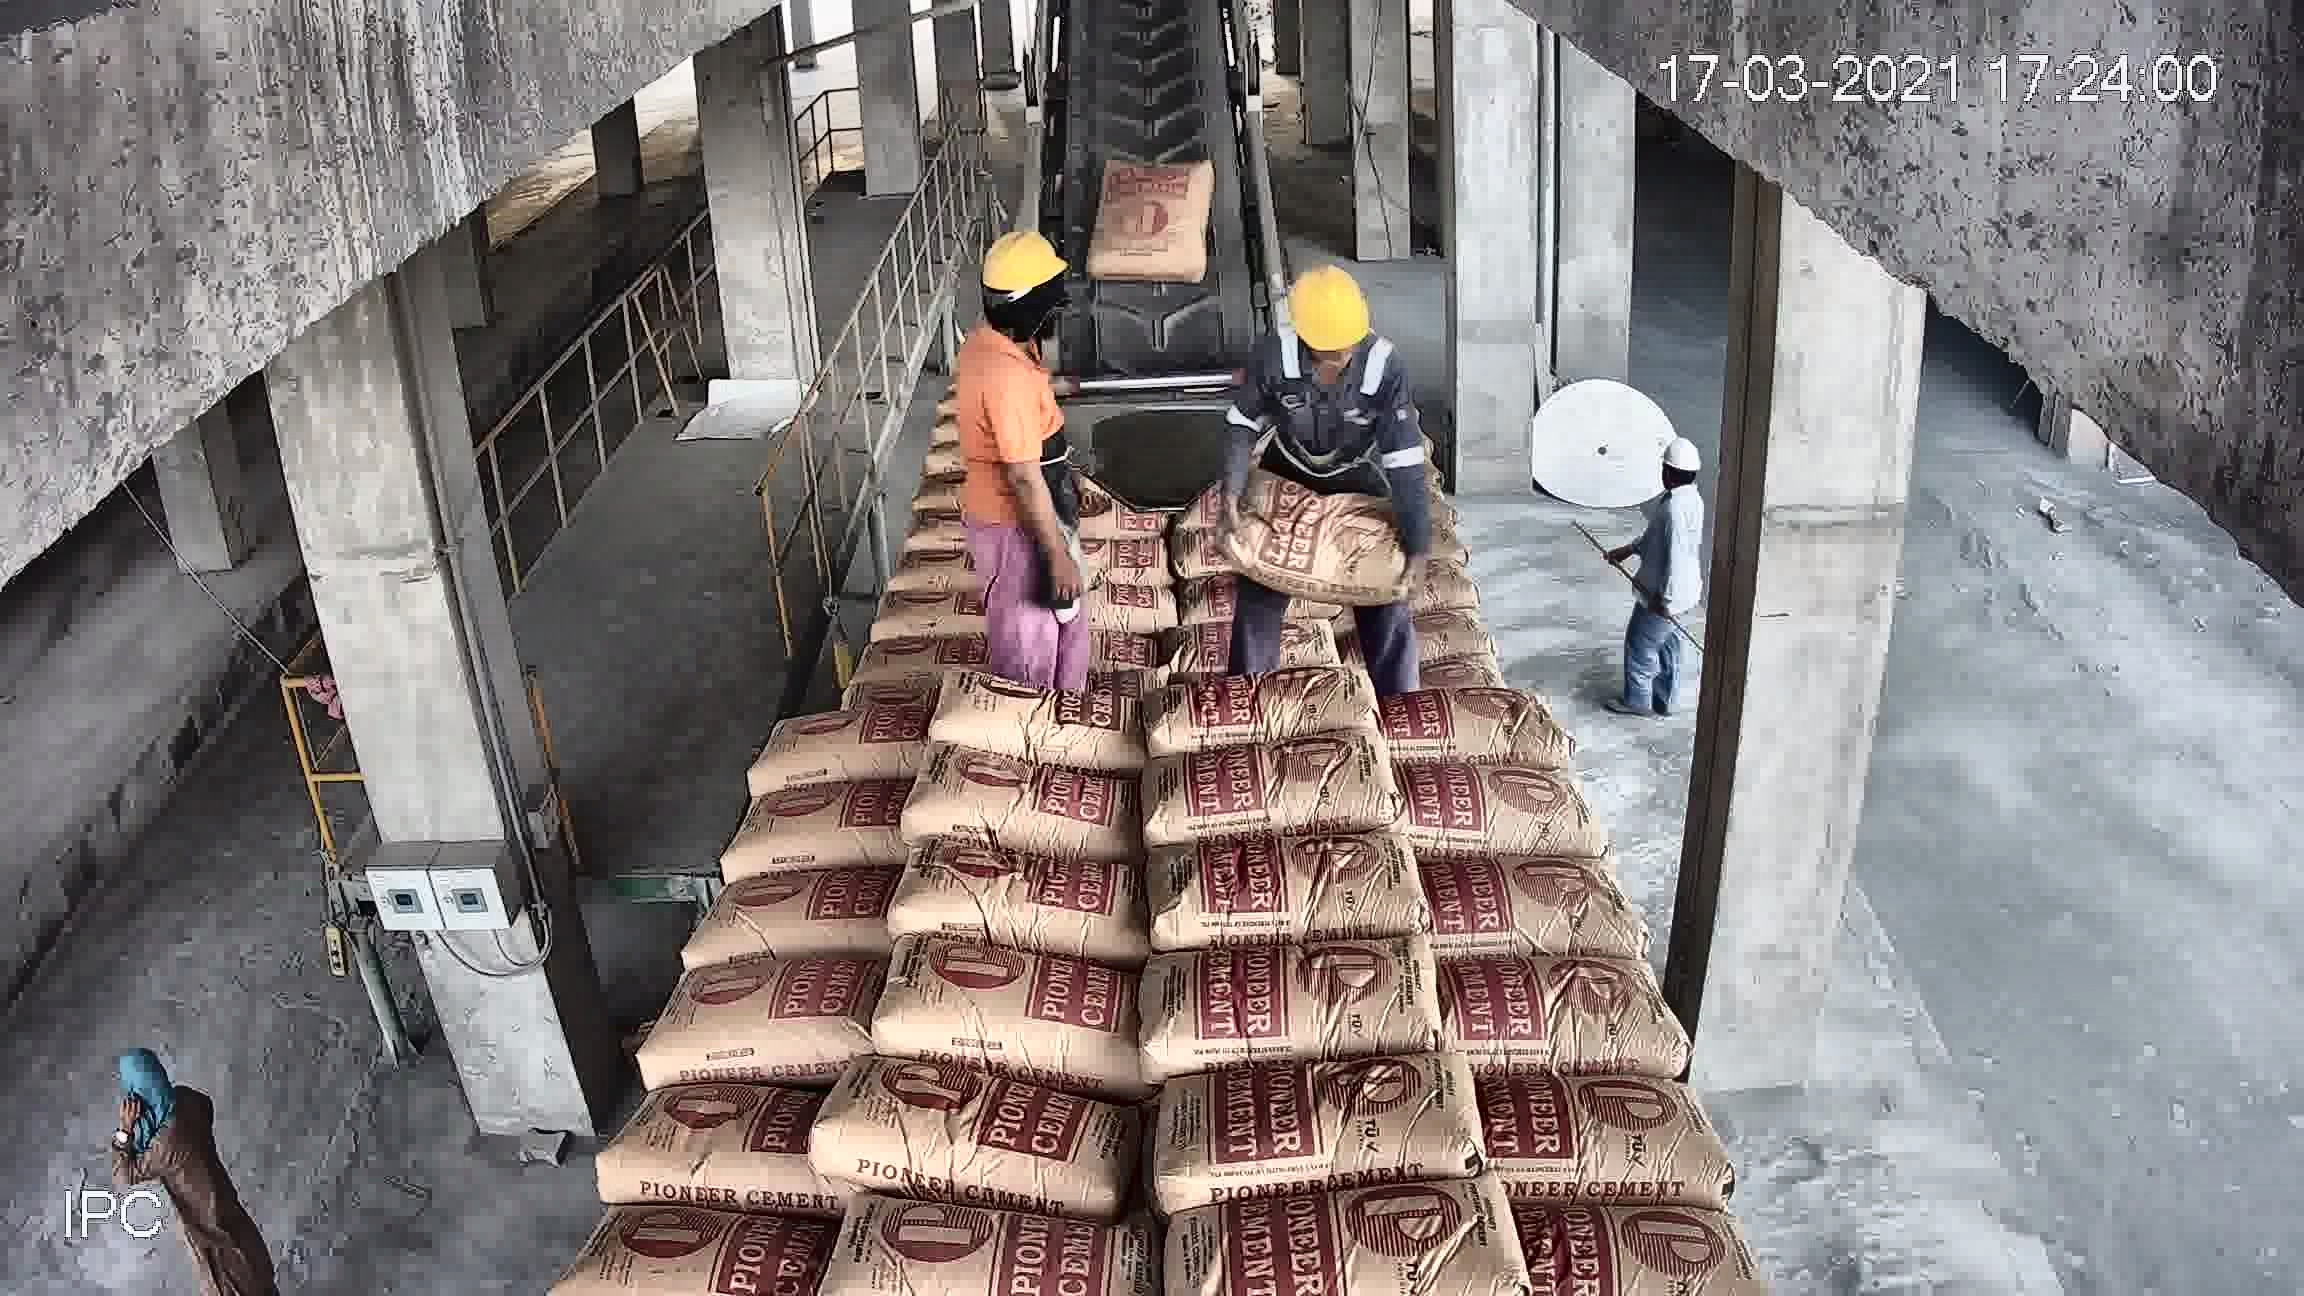bag: (1101, 258, 1188, 377), (1086, 11, 1188, 65)
bag_h: (805, 1041, 1127, 1204), (1124, 1054, 1492, 1192), (837, 946, 1174, 1086), (1418, 923, 1677, 1093), (1453, 1067, 1728, 1211), (866, 832, 1193, 949), (619, 953, 885, 1092), (1184, 1185, 1537, 1283), (1143, 937, 1445, 1048), (1114, 654, 1407, 767), (809, 1195, 1124, 1294), (1146, 733, 1423, 839), (1461, 1179, 1761, 1274), (1157, 828, 1423, 930), (1427, 836, 1644, 953), (1397, 748, 1620, 861), (603, 1097, 840, 1199), (682, 859, 904, 967), (695, 774, 911, 880), (1397, 661, 1586, 771), (892, 760, 1150, 837), (1166, 589, 1385, 677), (533, 1233, 791, 1296), (932, 680, 1152, 753), (764, 628, 942, 718), (771, 704, 929, 801), (1389, 612, 1563, 699), (965, 612, 1184, 680), (983, 549, 1184, 616), (809, 563, 948, 649), (1169, 538, 1347, 603), (812, 516, 984, 582), (1163, 487, 1351, 546), (1285, 434, 1443, 502), (1342, 503, 1495, 568), (1044, 435, 1193, 495), (994, 505, 1144, 563), (1386, 559, 1527, 620), (1052, 411, 1201, 467), (847, 484, 1002, 536), (1271, 388, 1427, 438), (1282, 328, 1412, 388), (1290, 415, 1448, 464), (1320, 465, 1465, 517), (1264, 359, 1407, 408), (1033, 389, 1161, 438)
belt: (1029, 24, 1260, 342)
